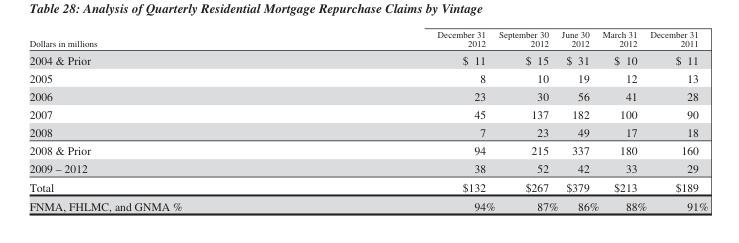table: (28, 28, 707, 212)
table column: (28, 28, 309, 212), (309, 28, 496, 212), (496, 28, 559, 212), (647, 28, 707, 212), (600, 28, 647, 212), (559, 28, 600, 212)
table column header: (28, 28, 707, 50)
table row: (28, 28, 707, 50), (28, 50, 707, 69), (28, 177, 707, 196), (28, 69, 707, 87), (28, 87, 707, 105), (28, 105, 707, 123), (28, 123, 707, 141), (28, 141, 707, 159), (28, 159, 707, 177), (28, 196, 707, 212)
